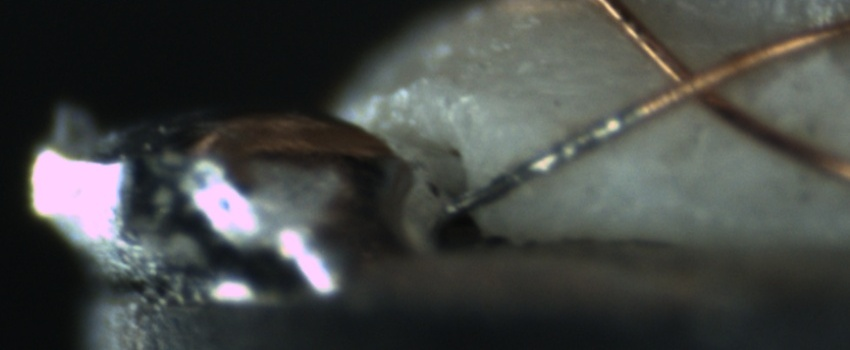CL: (651, 51, 737, 117)
TS: (444, 105, 640, 219)
